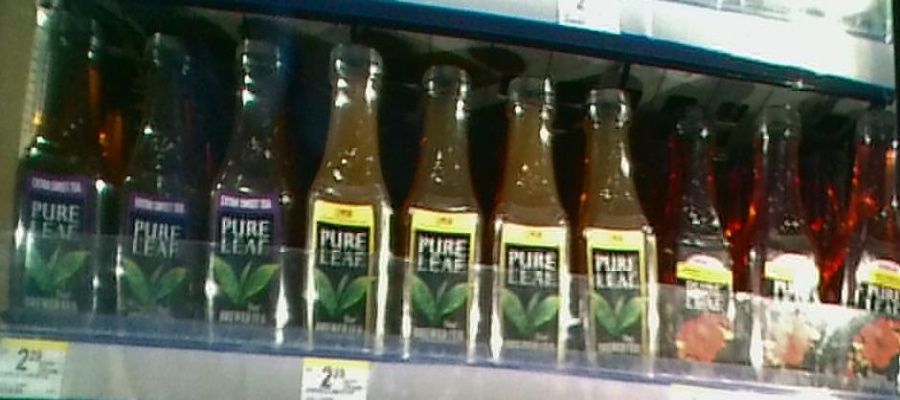bottle: (202, 9, 301, 353), (10, 2, 108, 334), (300, 30, 394, 360), (115, 12, 201, 349), (486, 54, 577, 369), (399, 49, 484, 361), (581, 70, 662, 378), (736, 102, 819, 387), (664, 108, 733, 381), (833, 105, 894, 400)
